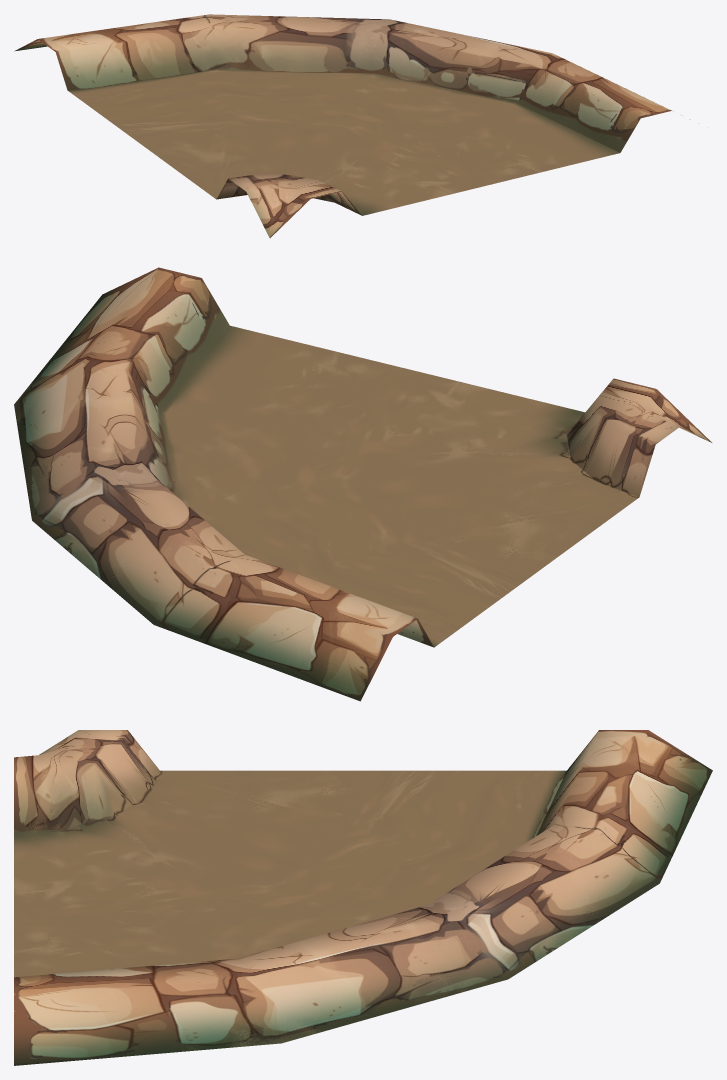
Rendered from m_StreetTile_turn_left.fbx.
3 renders of one model, top to bottom at view 1: azimuth 30°, elevation 25°; view 2: azimuth 150°, elevation 25°; view 3: azimuth 270°, elevation 25°, orthographic. The views are drawn at different scales.
Visible parts, largest first — view 1: turn_left; view 2: turn_left; view 3: turn_left.
Boxes of the visible parts, x1=… form: turn_left: x1=14, y1=14, x2=690, y2=237; turn_left: x1=14, y1=267, x2=711, y2=701; turn_left: x1=14, y1=730, x2=712, y2=1065.
Bounding box in the file's own units: 800 × 51.12 × 800.
